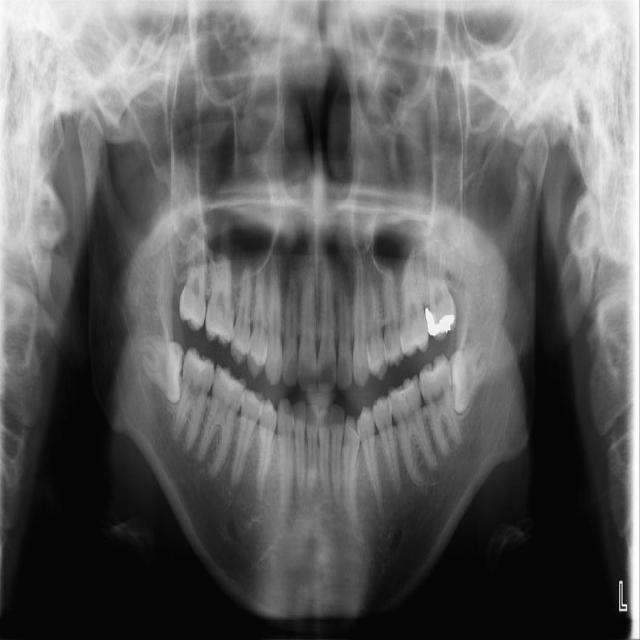Filling: (426, 308, 455, 336)
impacted tooth: (134, 337, 183, 405), (448, 341, 494, 412)
